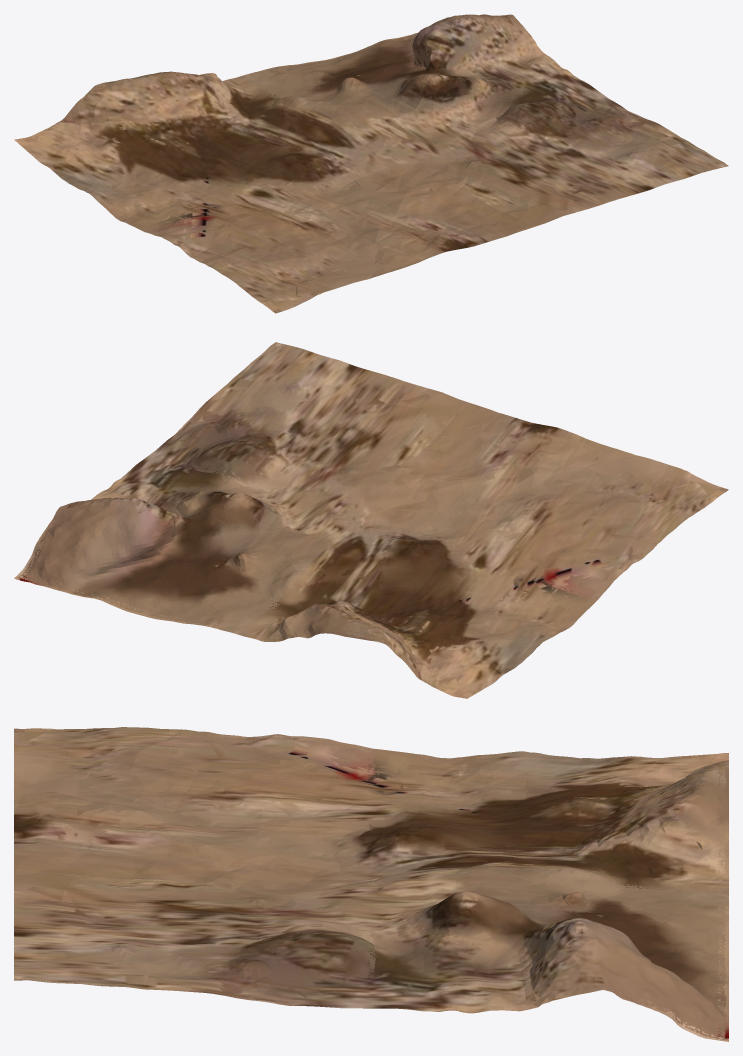
3 renders of one model, top to bottom at view 1: azimuth 30°, elevation 25°; view 2: azimuth 150°, elevation 25°; view 3: azimuth 270°, elevation 25°, orthographic. The views are drawn at different scales.
Size of the model in its own units: 2.09 by 0.3079 by 2.09.
Materials: 3 (3 with a texture image).
